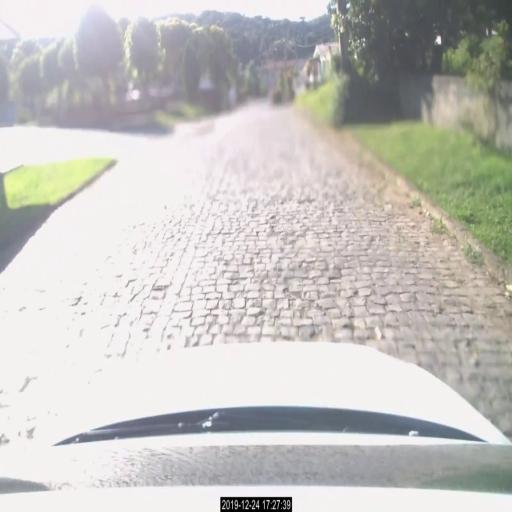Pothole: (274, 271, 316, 316)
